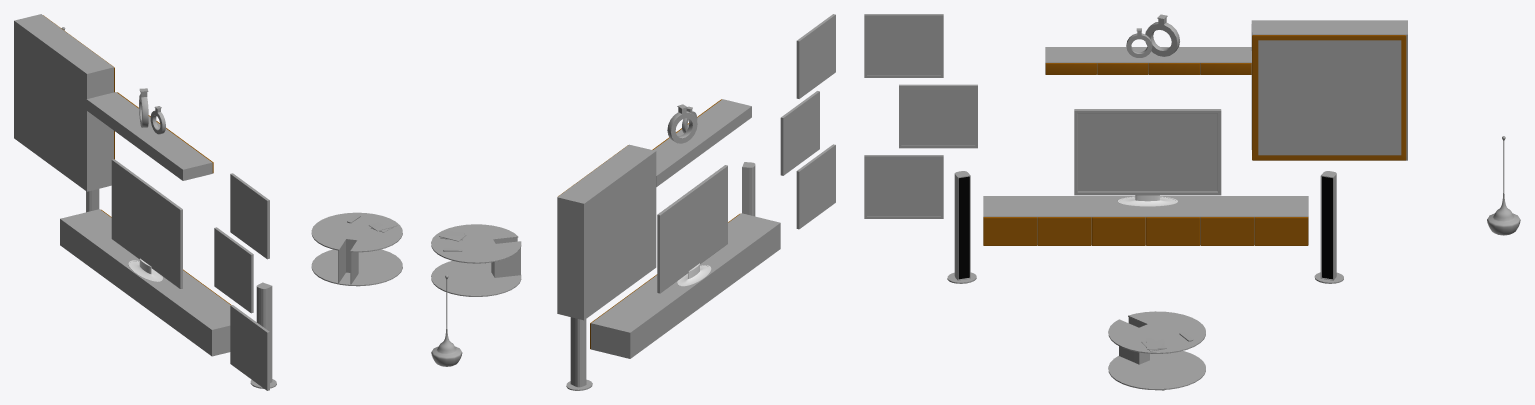
File: apartament_interior_living_room.fbx
3 views of the same model, side by side, from view 1: azimuth 30°, elevation 25°; view 2: azimuth 150°, elevation 25°; view 3: azimuth 270°, elevation 25° (orthographic). The views are drawn at different scales.
Parts seen in each view (by area): view 1: interior_living_room; view 2: interior_living_room; view 3: interior_living_room.
Part boxes in pixels (x1,y1,x2,y2): interior_living_room: (14, 14, 402, 390); interior_living_room: (431, 14, 835, 390); interior_living_room: (864, 14, 1520, 390).
Size of the model in its own units: 302 by 251 by 603.
